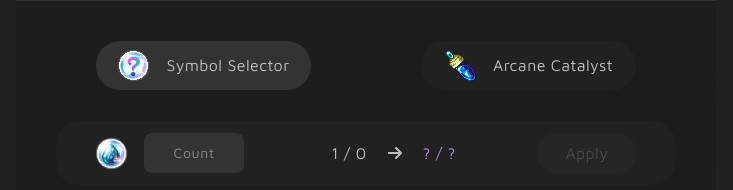
Test: Tools — Symbol Selector › clamps the count: '0' → 1, more than symbolsRemaining → symbolsRemaining
The image size is (733, 190).
Type "0" into the number field with placeholder "Count" at x=194, y=153, box 144,133 -> 244,173
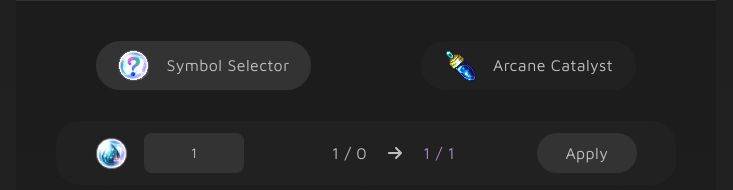
Result: the number field with placeholder "Count" holds "1"
Replace the text in the number field with placeholder "Count" with "3000" at x=194, y=153, box 144,133 -> 244,173
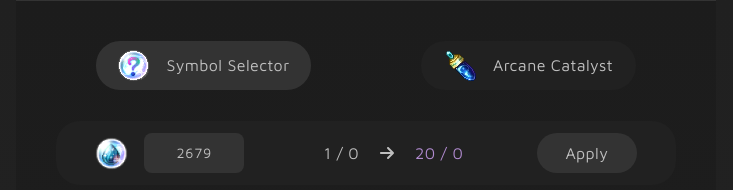
Result: the number field with placeholder "Count" holds "2679" at 144,133 -> 244,173
